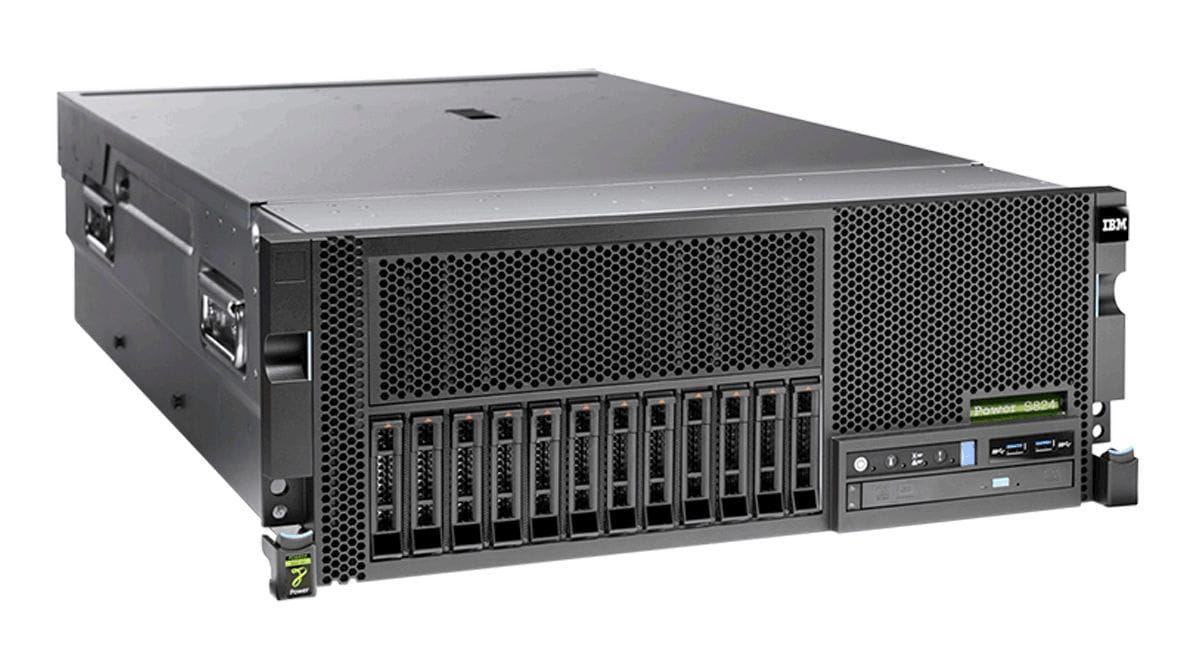ibm-server: (40, 54, 1157, 610)
